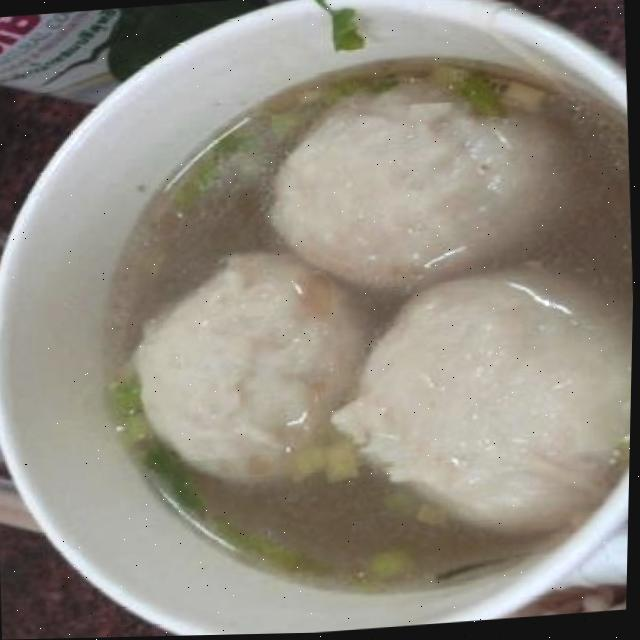熟制海鲜: (5, 0, 640, 640)
